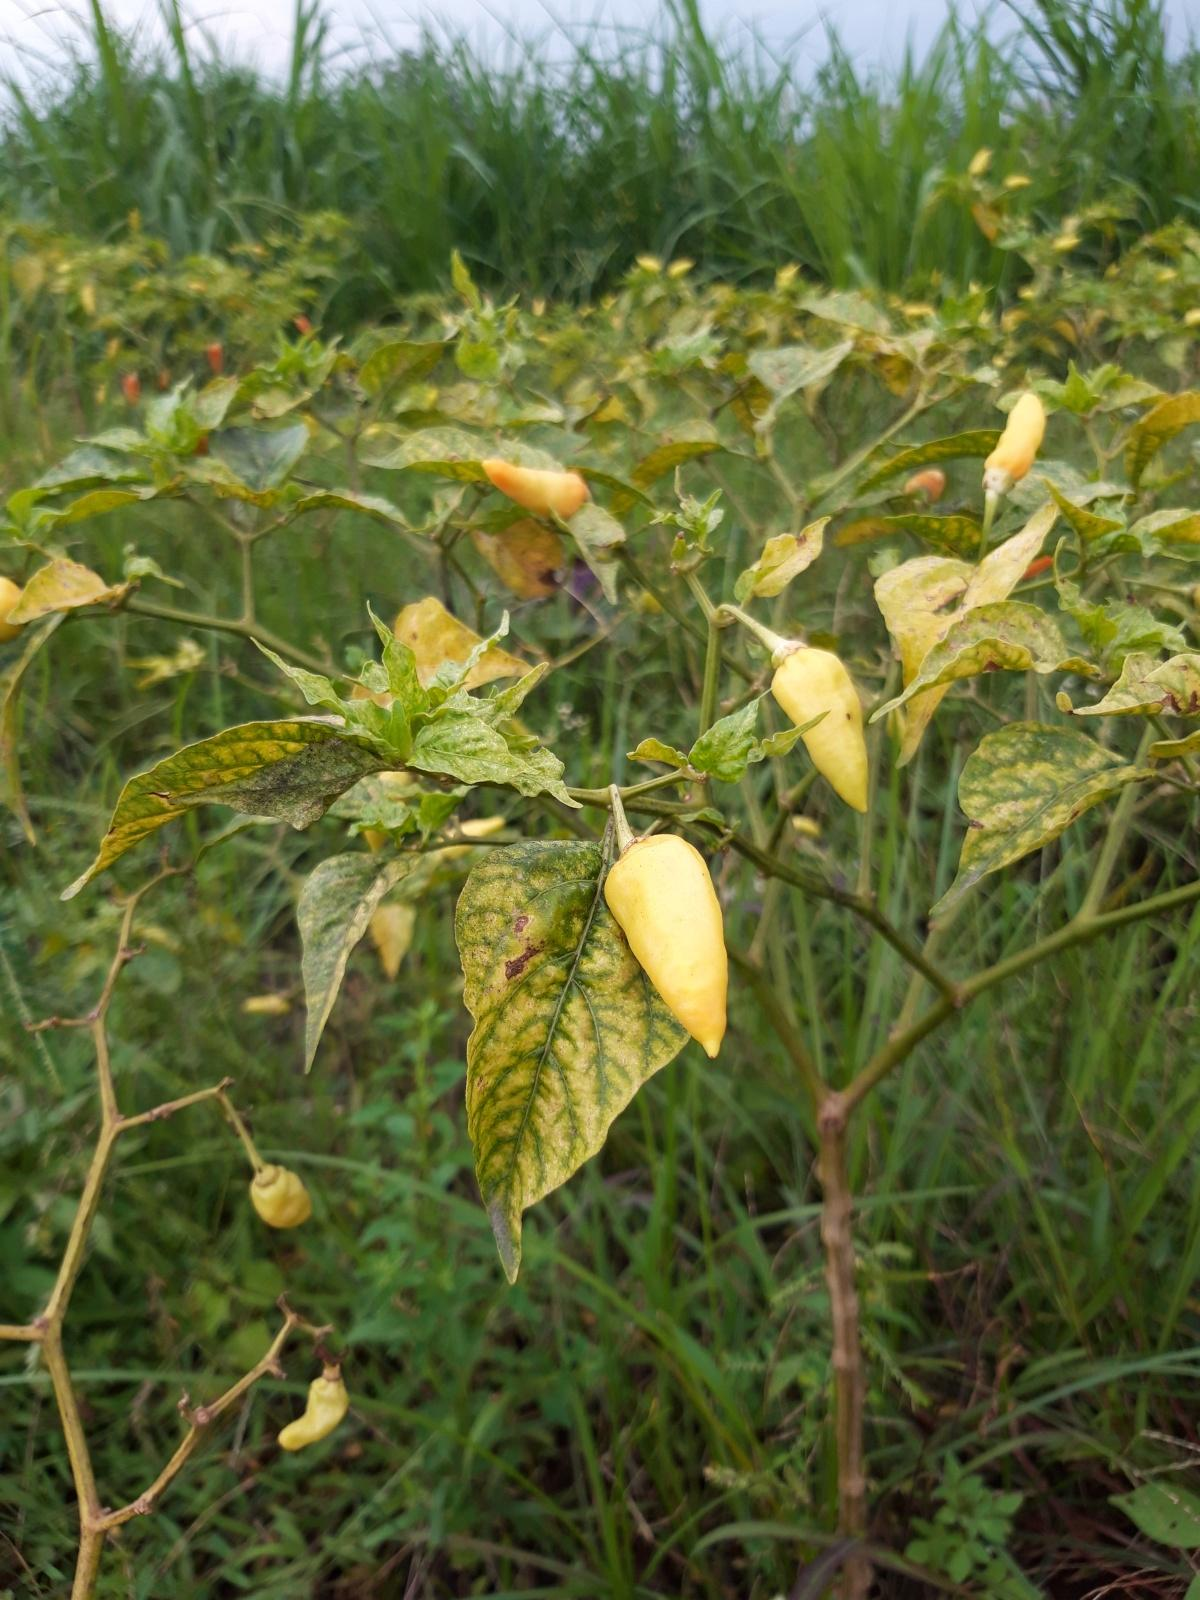cabai_normal: (604, 834, 730, 1058), (773, 648, 868, 816), (482, 459, 586, 519), (274, 1373, 348, 1453), (984, 393, 1045, 477), (252, 1170, 311, 1227), (906, 470, 947, 501)
